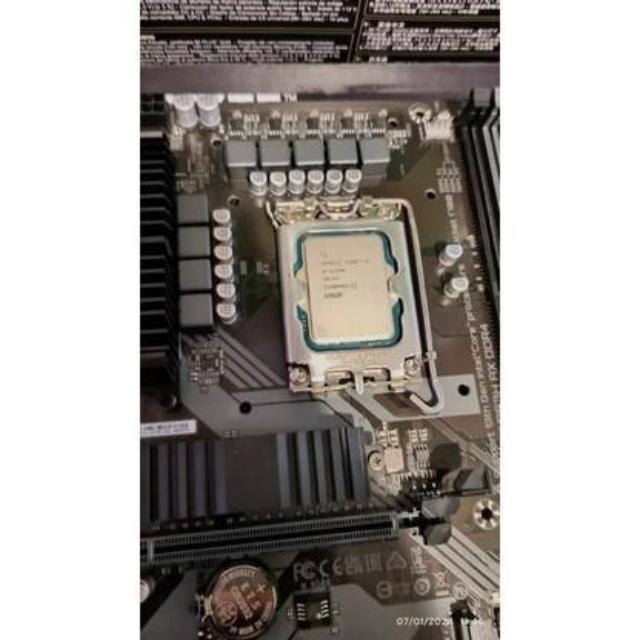CPU: (300, 223, 402, 357)
